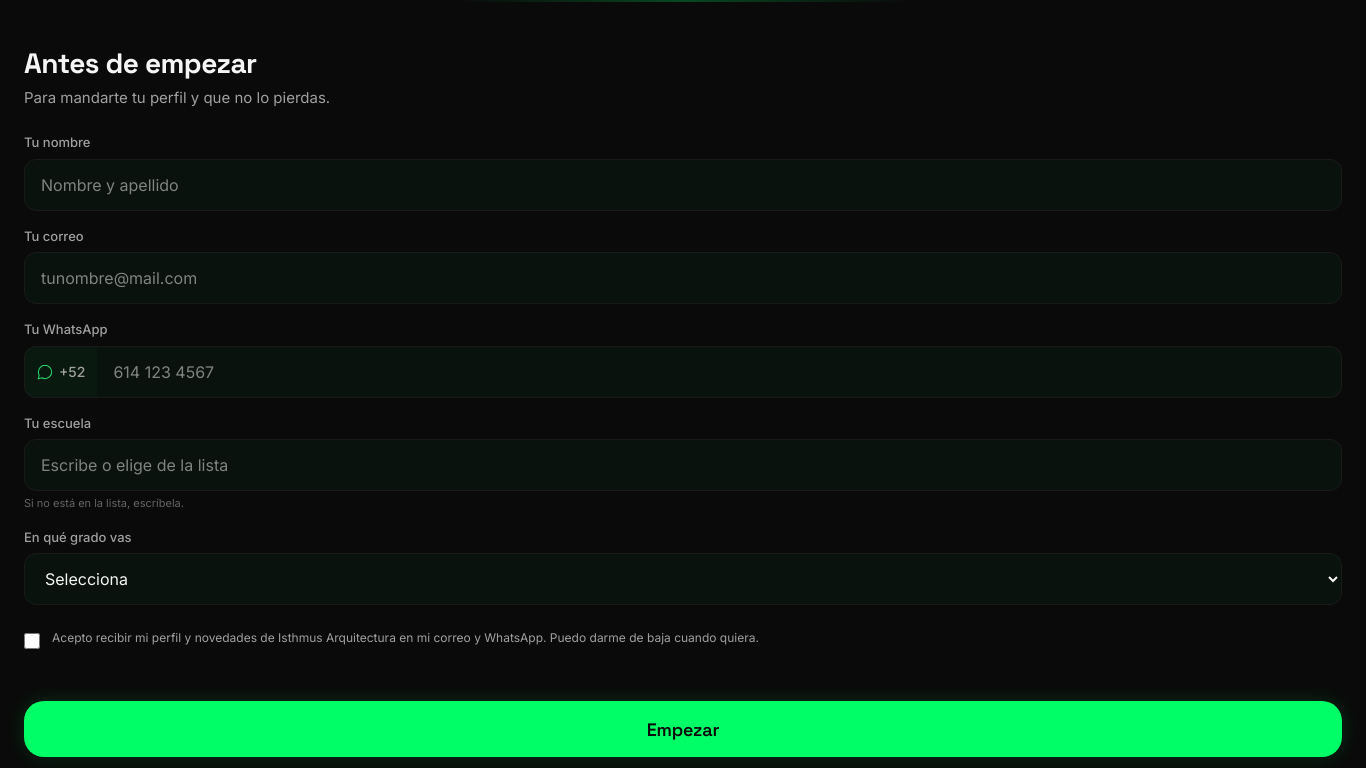
Test: LeadForm — validation › blocks submit when email is empty
Type "Maria" into the field labelled "Tu nombre" at (683, 185), box [24,159,1342,211]
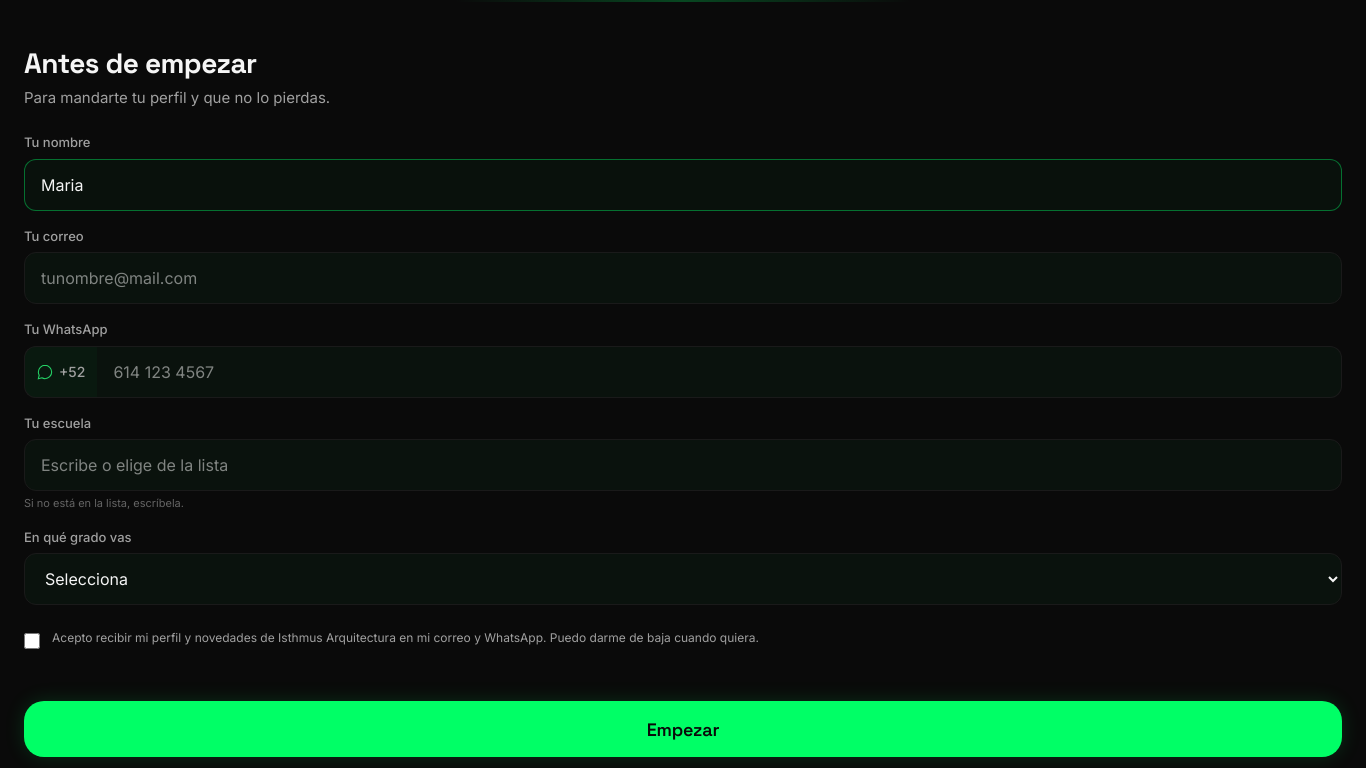
Click the button "Empezar" at (683, 729), box [24,701,1342,757]
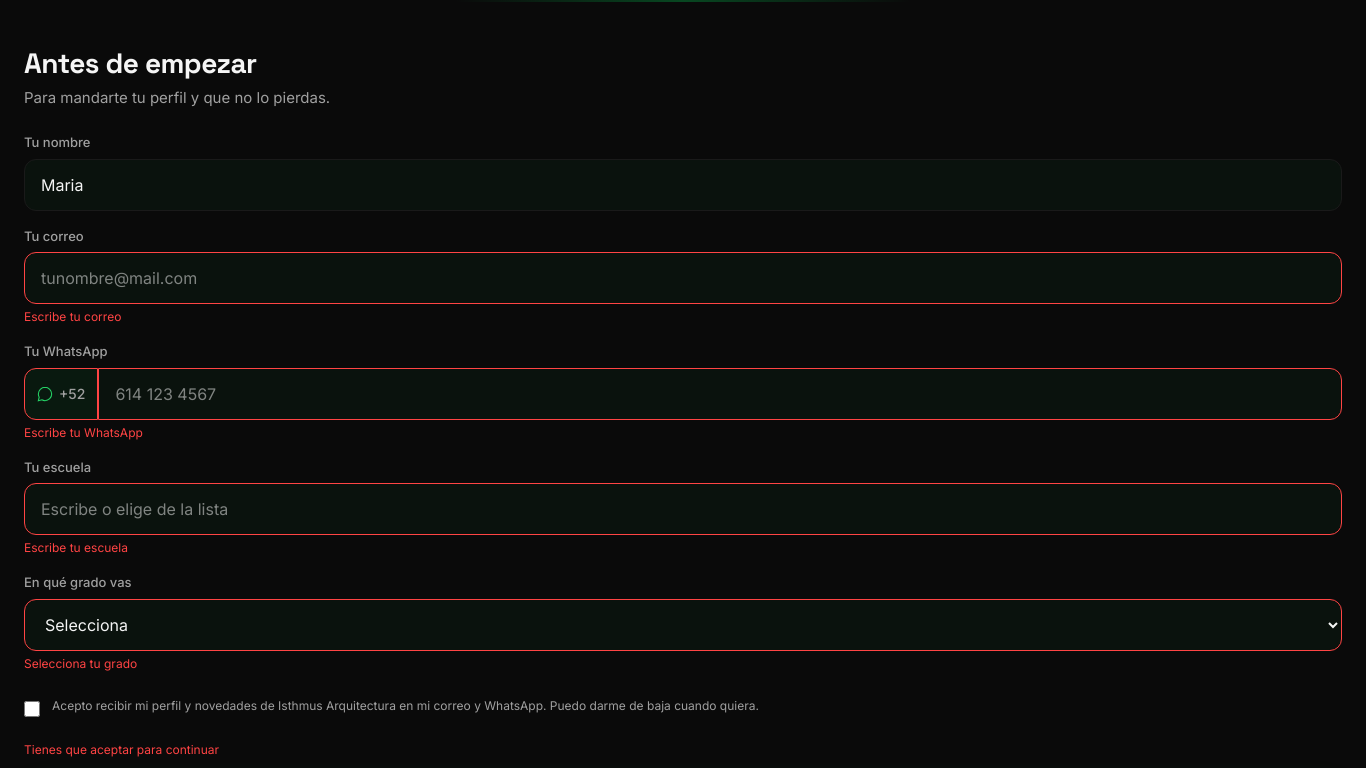
expect the text "Escribe tu correo" is shown: met, box [24,309,121,324]
